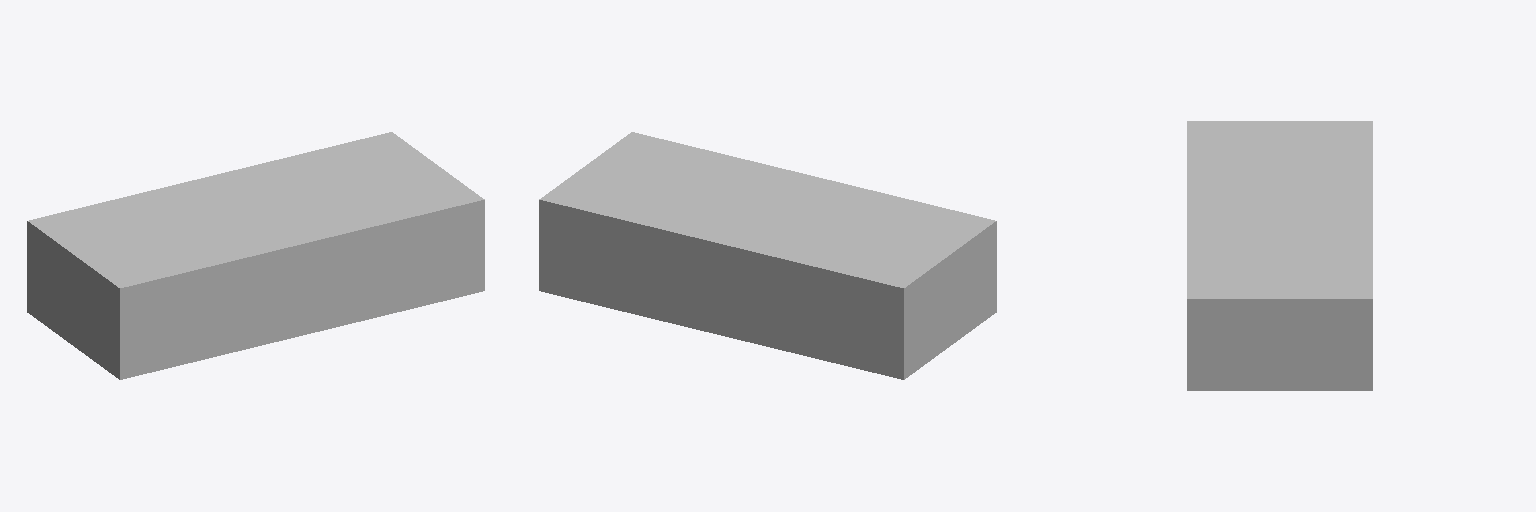
File: mattone.obj
3 renders of one model, left to right at view 1: azimuth 30°, elevation 25°; view 2: azimuth 150°, elevation 25°; view 3: azimuth 270°, elevation 25°, orthographic.
Parts seen in each view (by area): view 1: object 1; view 2: object 1; view 3: object 1.
Part boxes in pixels (bbox=[...]): object 1: bbox=[27, 132, 484, 379]; object 1: bbox=[539, 132, 996, 379]; object 1: bbox=[1187, 121, 1372, 390].
Bounding box in the file's own units: 2.5 × 0.6 × 1.1.